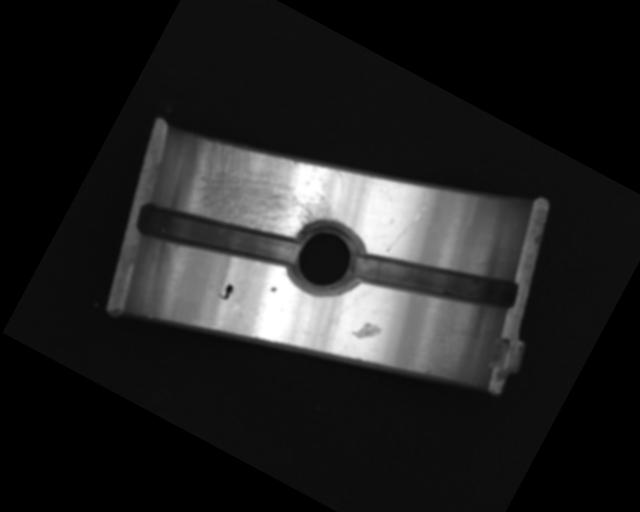blot: (215, 280, 236, 302)
bruise: (350, 314, 384, 347), (269, 285, 277, 294)
gap: (348, 213, 520, 350), (131, 171, 303, 304)
hole: (276, 210, 376, 310)
nick: (385, 200, 426, 259)
scratch: (161, 103, 354, 278)
